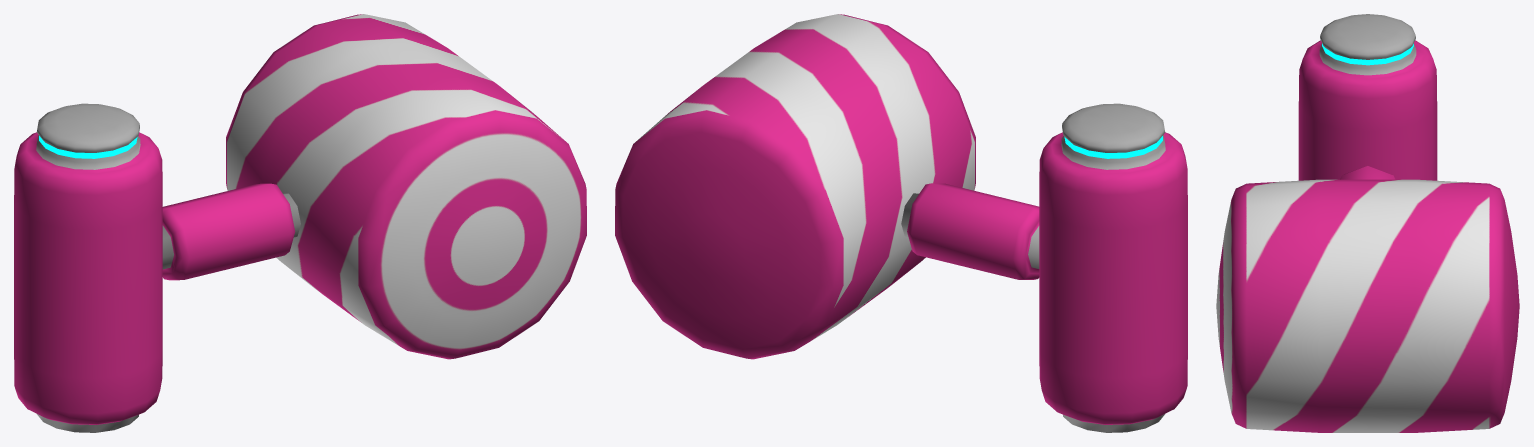
The model's file is hammer.fbx.
3 views of the same model, side by side, from view 1: azimuth 30°, elevation 25°; view 2: azimuth 150°, elevation 25°; view 3: azimuth 270°, elevation 25° (orthographic). The views are drawn at different scales.
Parts seen in each view (by area): view 1: HammerHead_lp, HammerBody_lp; view 2: HammerHead_lp, HammerBody_lp; view 3: HammerHead_lp, HammerBody_lp.
Boxes of the visible parts, x1,y1,x2,y2 form: HammerHead_lp: (226, 14, 586, 359); HammerBody_lp: (14, 103, 300, 432); HammerHead_lp: (615, 14, 975, 359); HammerBody_lp: (901, 103, 1187, 432); HammerHead_lp: (1216, 179, 1519, 432); HammerBody_lp: (1298, 14, 1437, 180).
Bounding box in the file's own units: 1.1 × 0.6147 × 0.6254.
Materials: 1 (1 with a texture image).
